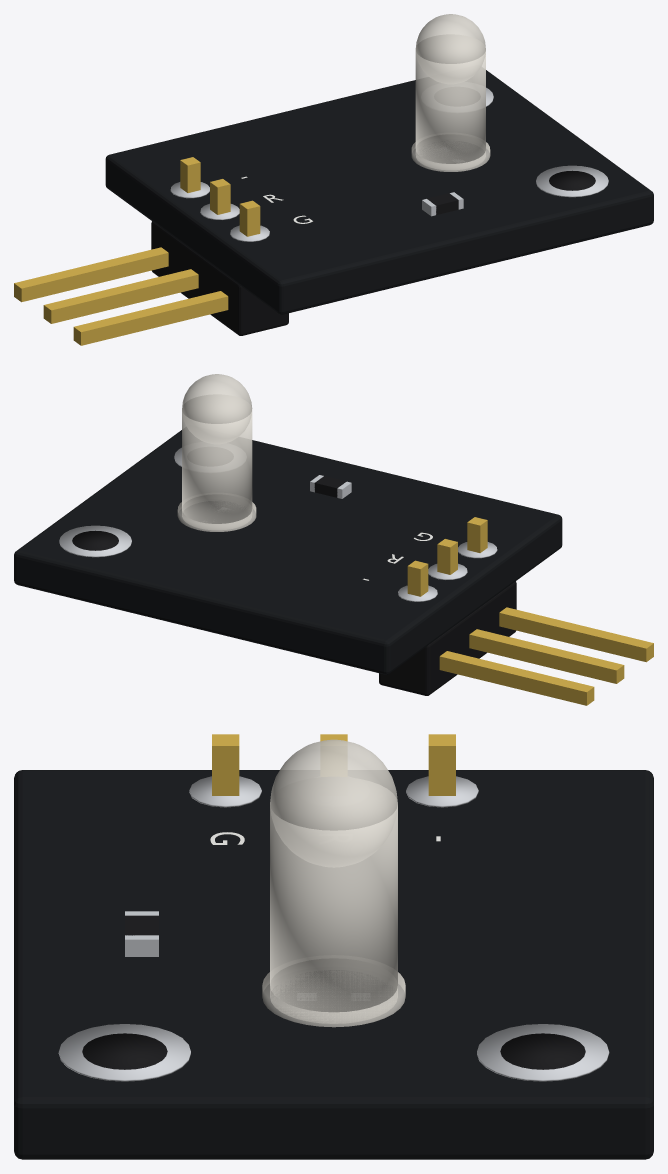
File: mini-two-color-led.glb
The picture shows the model from 3 angles, top to bottom: view 1: azimuth 30°, elevation 25°; view 2: azimuth 150°, elevation 25°; view 3: azimuth 270°, elevation 25°; orthographic projection. The views are drawn at different scales.
Parts seen in each view (by area): view 1: pcb.035, led_body.009, header.035, led_dome.010, pin_h.121, pin_h.122, pin_h.120, led_rim.009, hole_ring.064, hole.064, pin_v.122, pin_v.120 (+1 smaller); view 2: pcb.035, led_body.009, header.035, led_dome.010, pin_h.120, pin_h.121, pin_h.122, led_rim.009, hole_ring.063, hole.063, pin_v.120, pin_v.122 (+1 smaller); view 3: pcb.035, led_body.009, led_dome.010, led_rim.009, hole_ring.063, hole_ring.064, hole.063, hole.064, pin_v.120, pin_v.122, pad.120, pad.122 (+2 smaller).
Part boxes in pixels (bbox=[...]): pcb.035: bbox=[105, 70, 653, 314]; led_body.009: bbox=[415, 34, 485, 169]; header.035: bbox=[151, 221, 288, 335]; led_dome.010: bbox=[415, 14, 485, 83]; pin_h.121: bbox=[43, 269, 198, 323]; pin_h.122: bbox=[73, 291, 228, 345]; pin_h.120: bbox=[14, 247, 168, 302]; led_rim.009: bbox=[411, 134, 490, 171]; hole_ring.064: bbox=[536, 165, 608, 197]; hole.064: bbox=[549, 170, 595, 190]; pin_v.122: bbox=[239, 200, 260, 236]; pin_v.120: bbox=[180, 157, 200, 192]; pcb.035: bbox=[14, 430, 562, 674]; led_body.009: bbox=[182, 394, 252, 529]; header.035: bbox=[379, 581, 516, 695]; led_dome.010: bbox=[182, 374, 252, 443]; pin_h.120: bbox=[439, 651, 594, 705]; pin_h.121: bbox=[469, 629, 624, 683]; pin_h.122: bbox=[499, 607, 653, 662]; led_rim.009: bbox=[177, 494, 256, 531]; hole_ring.063: bbox=[59, 525, 131, 557]; hole.063: bbox=[72, 530, 118, 550]; pin_v.120: bbox=[407, 560, 428, 596]; pin_v.122: bbox=[467, 517, 487, 552]; pcb.035: bbox=[14, 770, 653, 1159]; led_body.009: bbox=[270, 777, 397, 1023]; led_dome.010: bbox=[270, 739, 397, 867]; led_rim.009: bbox=[262, 958, 405, 1027]; hole_ring.063: bbox=[477, 1024, 609, 1081]; hole_ring.064: bbox=[58, 1024, 190, 1081]; hole.063: bbox=[500, 1033, 585, 1069]; hole.064: bbox=[82, 1033, 167, 1069]; pin_v.120: bbox=[428, 734, 455, 795]; pin_v.122: bbox=[212, 734, 239, 795]; pad.120: bbox=[406, 776, 478, 807]; pad.122: bbox=[189, 776, 261, 807].
Bounding box in the file's own units: 0.0256 × 0.0106 × 0.015.
